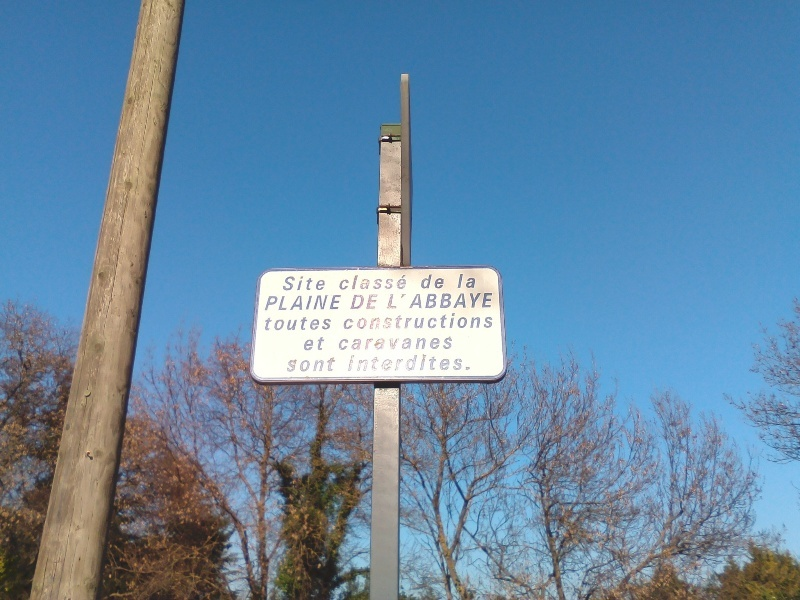text: (401, 292, 416, 311), (417, 292, 432, 311), (433, 292, 448, 311), (449, 292, 464, 311), (465, 292, 480, 311), (353, 354, 368, 373), (369, 354, 384, 373), (385, 354, 400, 373), (401, 354, 416, 373), (417, 354, 432, 373), (433, 354, 448, 373), (449, 354, 464, 373), (273, 294, 288, 312), (289, 294, 304, 312), (305, 294, 320, 312), (321, 294, 336, 312), (353, 293, 368, 311), (353, 313, 368, 331), (369, 313, 384, 331), (385, 313, 400, 331), (401, 313, 416, 331), (417, 313, 432, 331), (433, 313, 448, 331), (449, 313, 464, 331), (465, 313, 480, 331), (353, 273, 368, 290), (369, 273, 384, 290), (385, 273, 400, 290), (289, 276, 304, 292), (305, 276, 320, 292), (481, 292, 493, 311), (273, 317, 288, 332), (289, 317, 304, 332), (305, 317, 320, 332), (289, 357, 304, 372), (305, 357, 320, 372), (321, 357, 336, 372), (481, 313, 493, 331), (353, 337, 368, 351), (369, 337, 384, 351), (385, 337, 400, 351), (401, 337, 416, 351), (417, 337, 432, 351), (433, 337, 448, 351), (306, 337, 320, 351), (433, 274, 445, 290), (390, 292, 400, 311), (465, 274, 477, 289), (369, 293, 379, 311), (321, 317, 333, 332), (342, 273, 352, 290), (340, 337, 352, 351), (422, 274, 432, 290), (337, 294, 344, 312), (345, 313, 352, 331), (401, 273, 408, 290), (265, 317, 272, 332), (465, 354, 470, 373), (321, 276, 326, 292), (459, 274, 464, 289), (268, 294, 272, 312), (321, 337, 326, 351), (349, 354, 352, 373), (449, 337, 453, 351), (285, 276, 288, 292)
